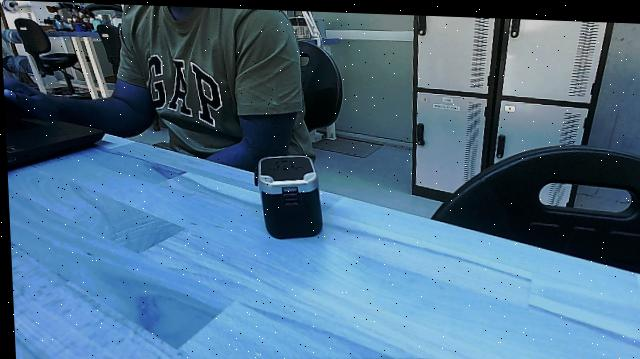adapter: (253, 153, 331, 244)
